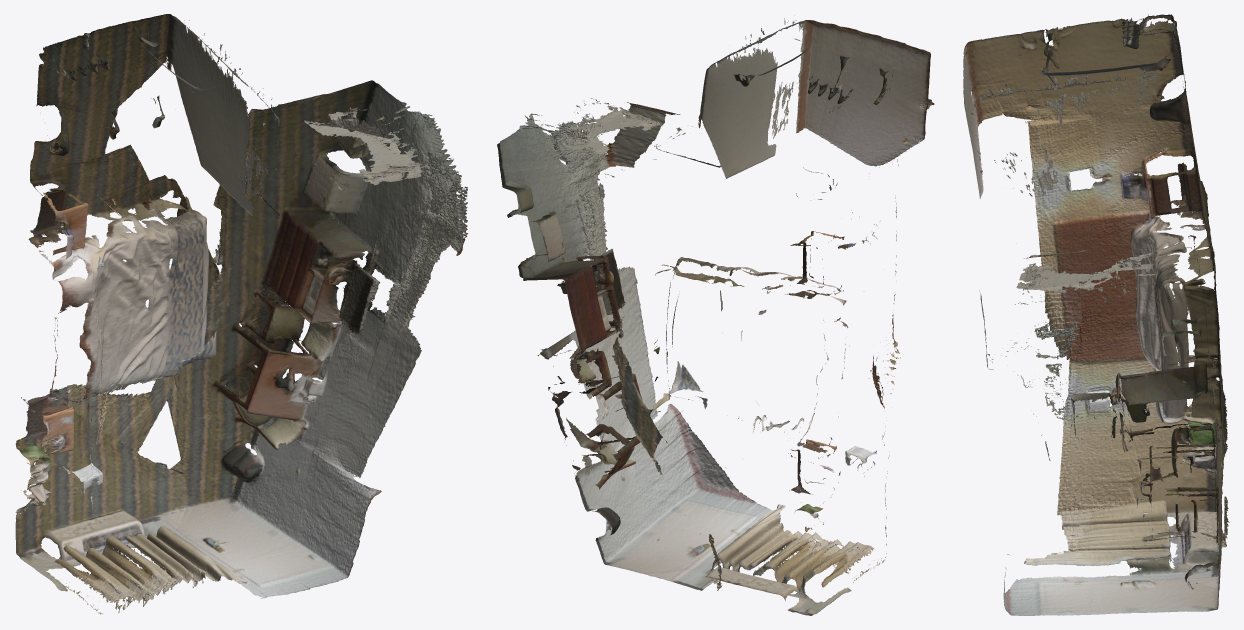
3 views of the same model, side by side, from view 1: azimuth 30°, elevation 25°; view 2: azimuth 150°, elevation 25°; view 3: azimuth 270°, elevation 25° (orthographic). The views are drawn at different scales.
Parts seen in each view (by area): view 1: world; view 2: world; view 3: world.
Part boxes in pixels (<box>): world: <box>15,14,468,614</box>; world: <box>497,18,934,615</box>; world: <box>963,14,1229,615</box>.
Size of the model in its own units: 4.48 by 6.38 by 2.96.
